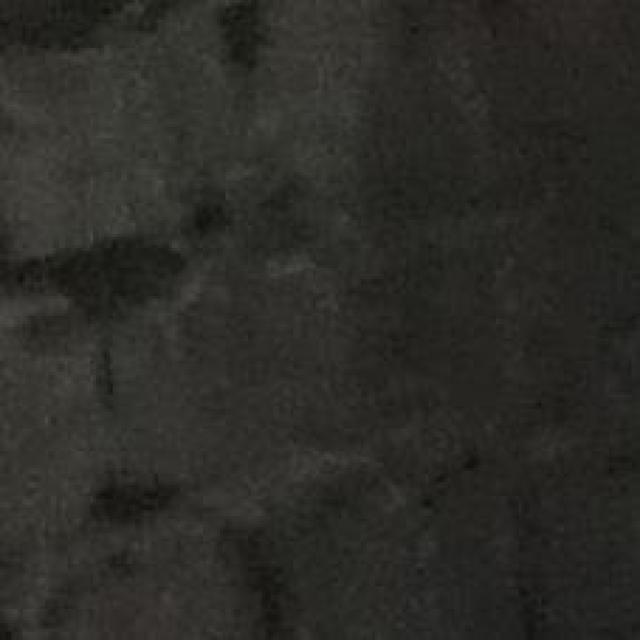Crack: (0, 101, 537, 573)
